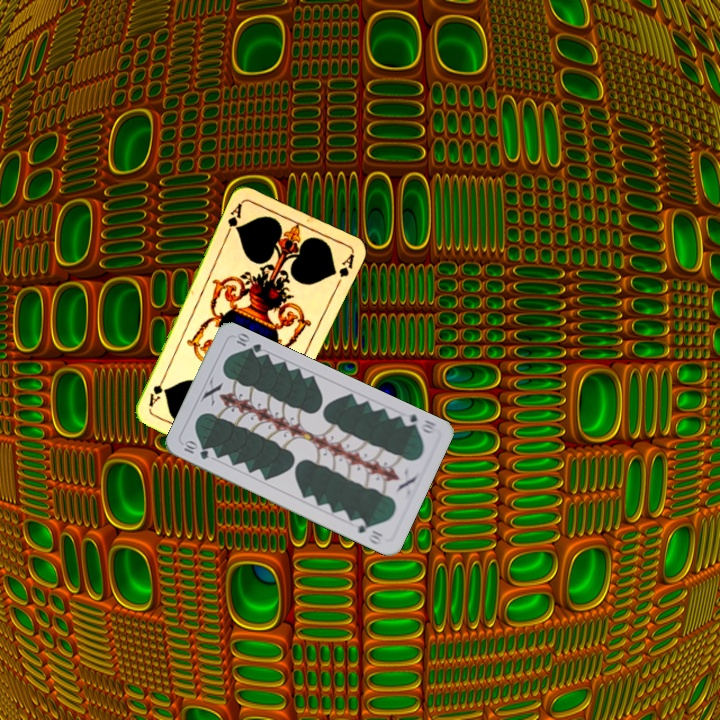G10: (398, 409, 440, 437), (180, 437, 211, 462)
GA: (222, 199, 245, 238)
